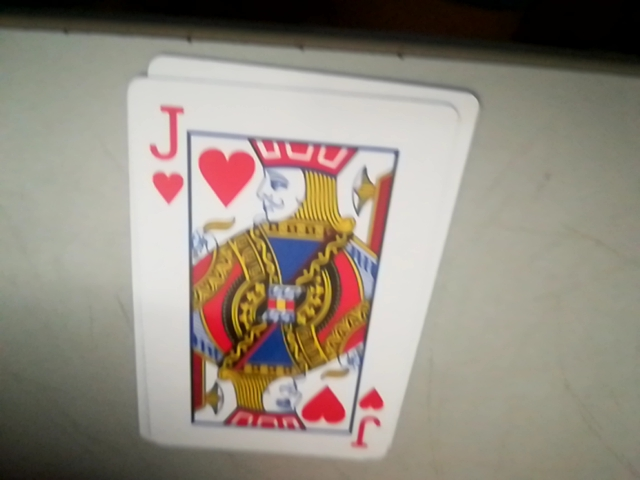hx j: (146, 101, 184, 205)
